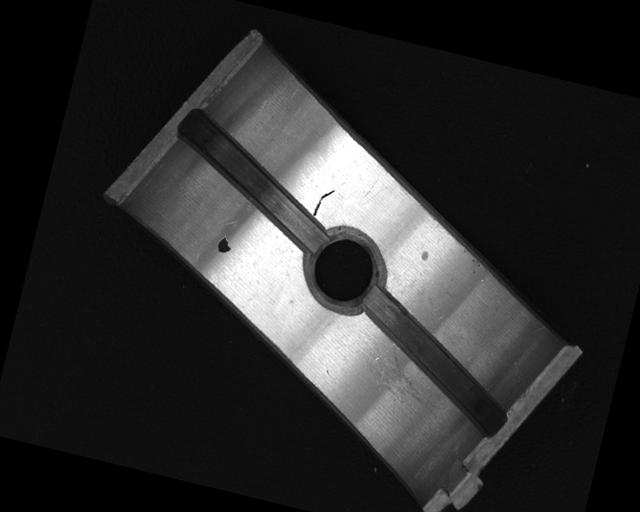blot: (215, 234, 235, 254)
bruise: (419, 249, 430, 263)
gap: (341, 285, 528, 439), (161, 108, 341, 250)
hole: (297, 223, 391, 314)
nick: (311, 186, 335, 221)
scratch: (365, 340, 454, 420)
